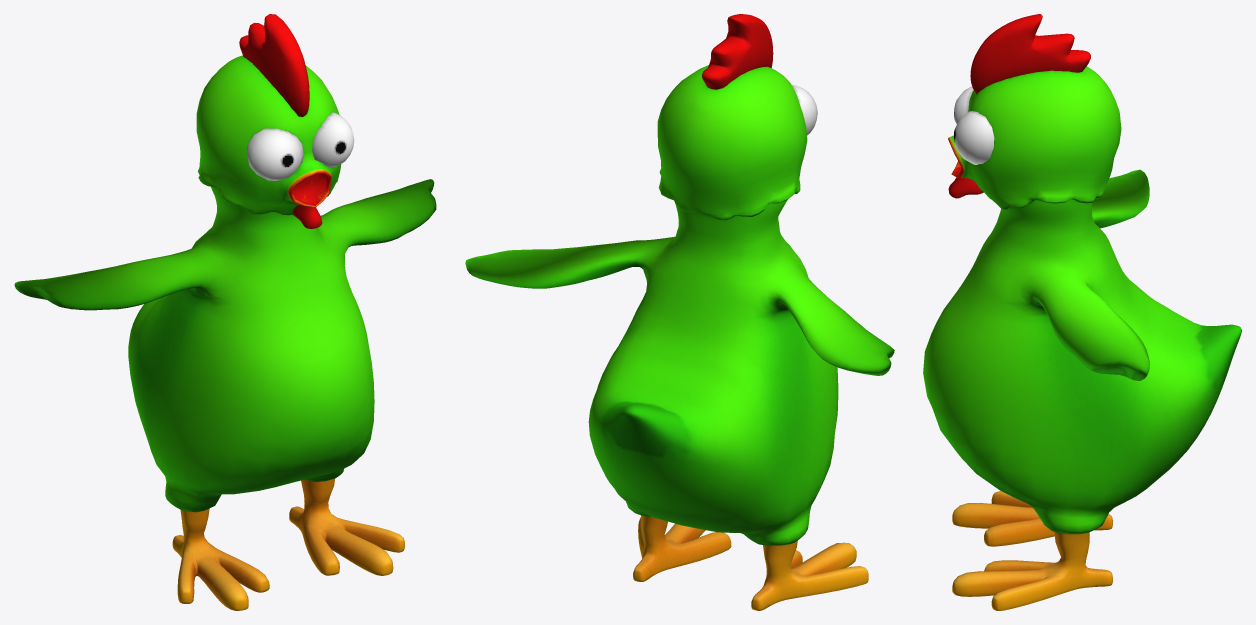
File: chicken.fbx
3 views of the same model, side by side, from view 1: azimuth 30°, elevation 25°; view 2: azimuth 150°, elevation 25°; view 3: azimuth 270°, elevation 25° (orthographic). The views are drawn at different scales.
Parts seen in each view (by area): view 1: body, head, foot, eye; view 2: body, head, foot, eye; view 3: body, head, foot, eye.
Boxes of the visible parts, <box> form: body: <box>14,179,436,512</box>; head: <box>196,14,341,228</box>; foot: <box>172,478,404,610</box>; eye: <box>246,112,354,180</box>; body: <box>465,200,894,545</box>; head: <box>657,14,807,220</box>; foot: <box>633,515,868,610</box>; eye: <box>792,85,817,135</box>; body: <box>923,169,1241,534</box>; head: <box>948,14,1121,209</box>; foot: <box>952,490,1112,610</box>; eye: <box>954,86,994,164</box>.
Size of the model in its own units: 100 by 125 by 66.53.
